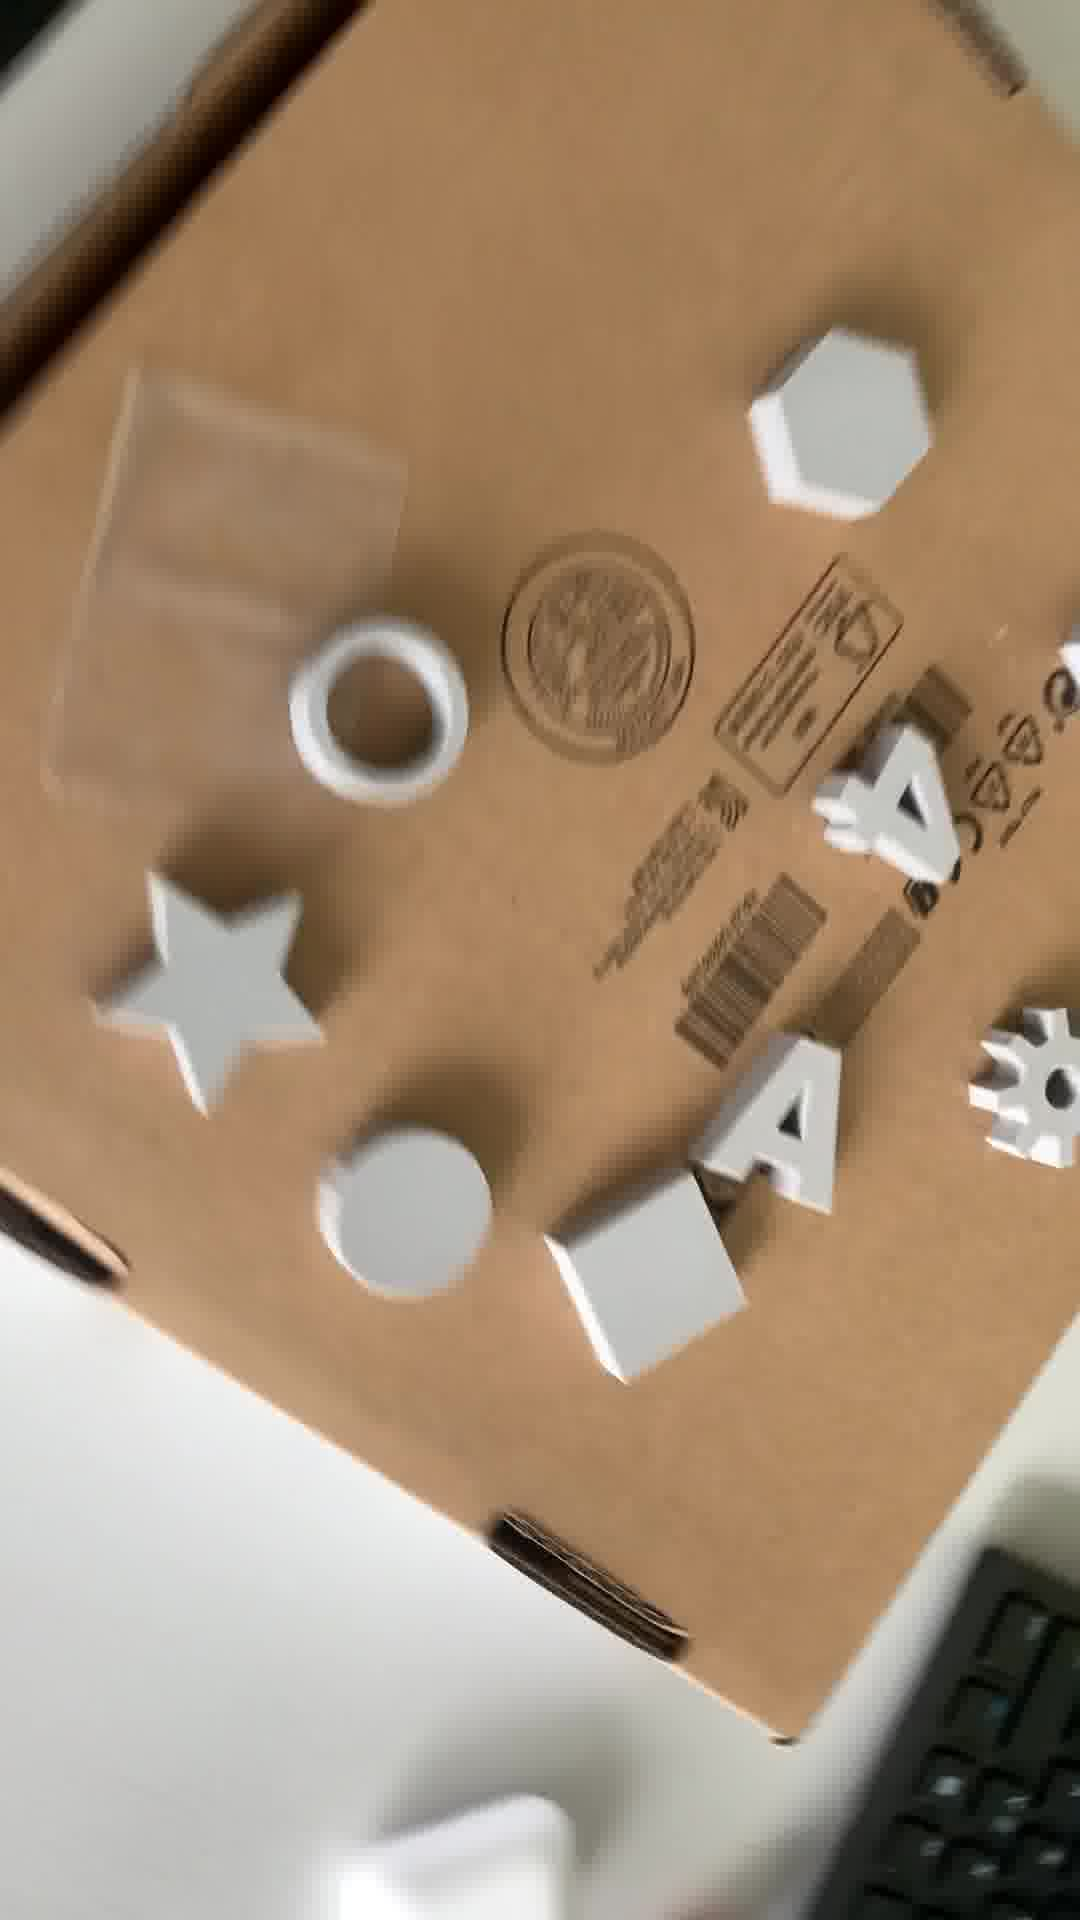Gray A-letter: (694, 1014, 861, 1234)
Gray circle: (310, 1120, 508, 1302)
Gray four: (814, 709, 967, 903)
Gray gear: (967, 997, 1080, 1185)
Gray hexagon: (749, 313, 934, 535)
Gray ring: (294, 616, 483, 816)
Gray square: (551, 1174, 752, 1383)
Gray star: (79, 861, 351, 1118)
